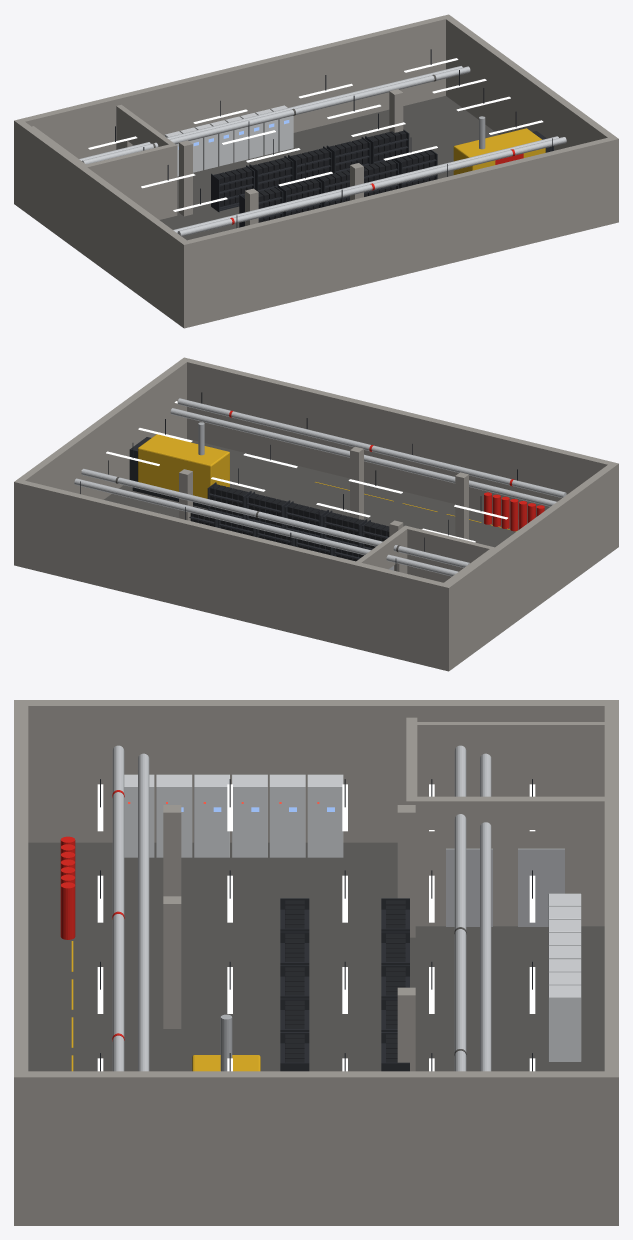
3 renders of one model, top to bottom at view 1: azimuth 30°, elevation 25°; view 2: azimuth 150°, elevation 25°; view 3: azimuth 270°, elevation 25°, orthographic. The views are drawn at different scales.
Parts seen in each view (by area): view 1: LV_B3, M_light; view 2: LV_B3, M_light; view 3: LV_B3, M_light.
Boxes of the visible parts, left/top/right/bottom form: LV_B3: left=14, top=14, right=618, bottom=328; M_light: left=88, top=58, right=543, bottom=211; LV_B3: left=14, top=357, right=618, bottom=671; M_light: left=81, top=401, right=507, bottom=542; LV_B3: left=14, top=700, right=618, bottom=1225; M_light: left=97, top=784, right=535, bottom=1071.
Bounding box in the file's own units: 24.8 × 4.55 × 16.8.
